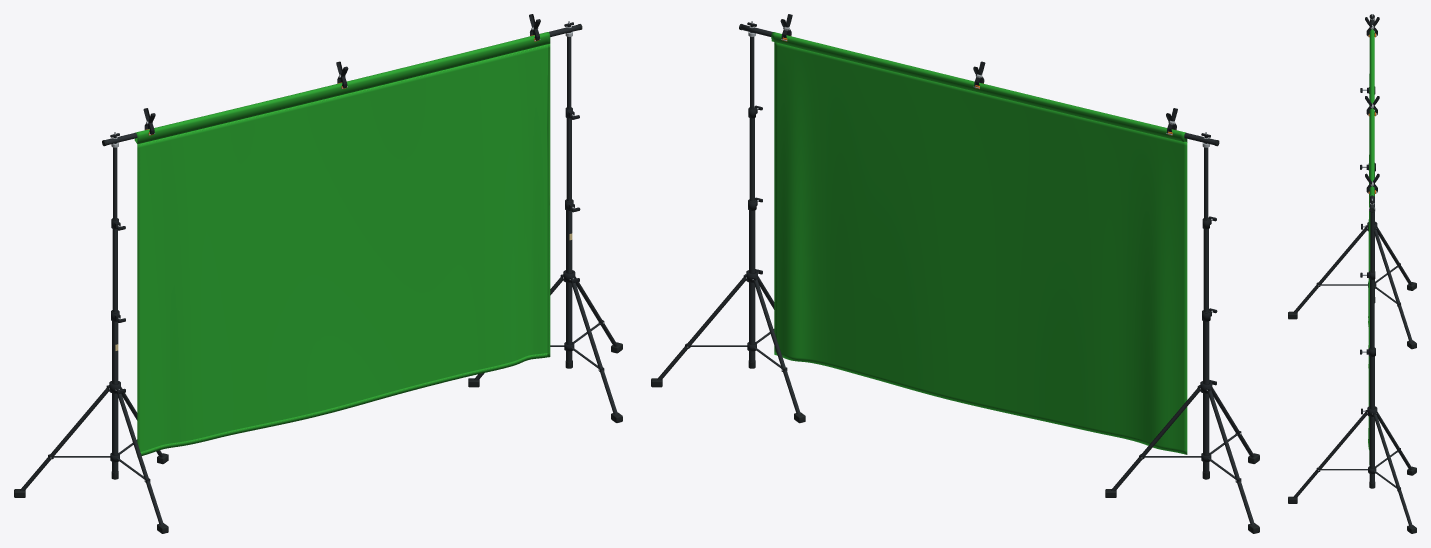
File: GS06_Portable_Greenscreen.glb
The picture shows the model from 3 angles, left to right: view 1: azimuth 30°, elevation 25°; view 2: azimuth 150°, elevation 25°; view 3: azimuth 270°, elevation 25°; orthographic projection. The views are drawn at different scales.
Parts seen in each view (by area): view 1: Green_cloth_main_continuous_panel, Open_ended_top_rod_pocket, Turned_bottom_hem, Turned_side_hem_1, R_Lower_tube, L_Lower_tube, Turned_side_hem_0; view 2: Green_cloth_main_continuous_panel, Open_ended_top_rod_pocket, R_Lower_tube, L_Lower_tube; view 3: Open_ended_top_rod_pocket, R_Lower_tube, Green_cloth_main_continuous_panel, R_leg_1, L_leg_1, L_leg_0, R_leg_0, R_Middle_tube, L_leg_2, R_leg_2, R_Upper_tube, Turned_side_hem_1.
Boxes of the visible parts, bbox=[...] form: Green_cloth_main_continuous_panel: bbox=[137, 44, 547, 451]; Open_ended_top_rod_pocket: bbox=[134, 32, 550, 144]; Turned_bottom_hem: bbox=[140, 353, 547, 455]; Turned_side_hem_1: bbox=[547, 43, 550, 357]; R_Lower_tube: bbox=[566, 210, 572, 362]; L_Lower_tube: bbox=[112, 321, 118, 472]; Turned_side_hem_0: bbox=[137, 144, 139, 449]; Green_cloth_main_continuous_panel: bbox=[774, 42, 1187, 454]; Open_ended_top_rod_pocket: bbox=[771, 32, 1187, 141]; R_Lower_tube: bbox=[749, 210, 755, 362]; L_Lower_tube: bbox=[1203, 321, 1209, 472]; Open_ended_top_rod_pocket: bbox=[1369, 29, 1374, 203]; R_Lower_tube: bbox=[1369, 356, 1374, 482]; Green_cloth_main_continuous_panel: bbox=[1368, 74, 1370, 445]; R_leg_1: bbox=[1373, 414, 1412, 526]; L_leg_1: bbox=[1374, 229, 1412, 341]; L_leg_0: bbox=[1293, 227, 1367, 313]; R_leg_0: bbox=[1293, 412, 1367, 498]; R_Middle_tube: bbox=[1370, 279, 1374, 348]; L_leg_2: bbox=[1377, 227, 1412, 285]; R_leg_2: bbox=[1377, 412, 1412, 470]; R_Upper_tube: bbox=[1370, 212, 1373, 271]; Turned_side_hem_1: bbox=[1369, 222, 1369, 464].
Size of the model in its own units: 3.54 by 2.1 by 0.7789.
